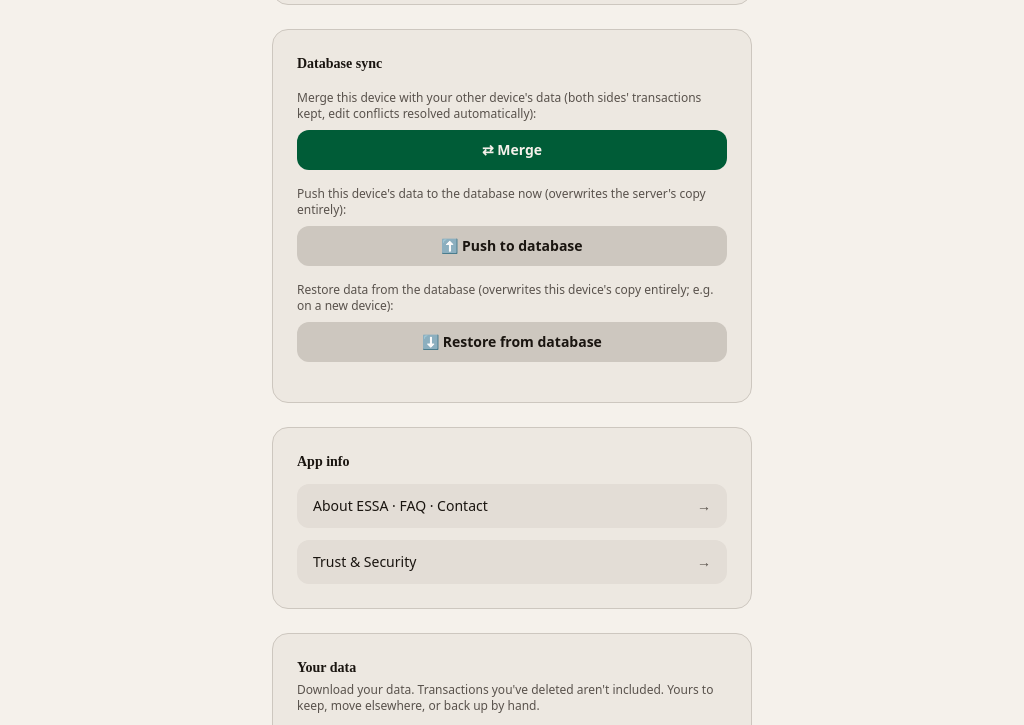
Test: declining the ask leaves the record as it is
The image size is (1024, 725).
(page scrolled)
Click the button "⬇ Restore from database".
click(512, 342)  # box [297,322,727,362]
(page scrolled)
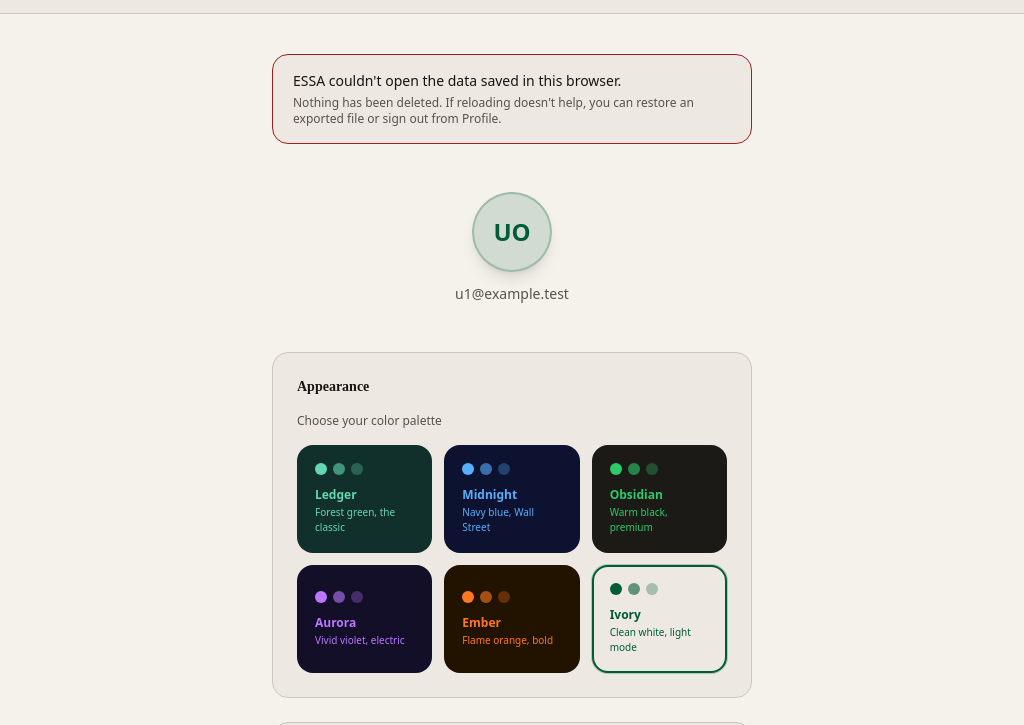
Result: the message is shown at [272,54,752,144]
